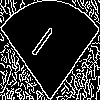I: (25, 24, 55, 66)
